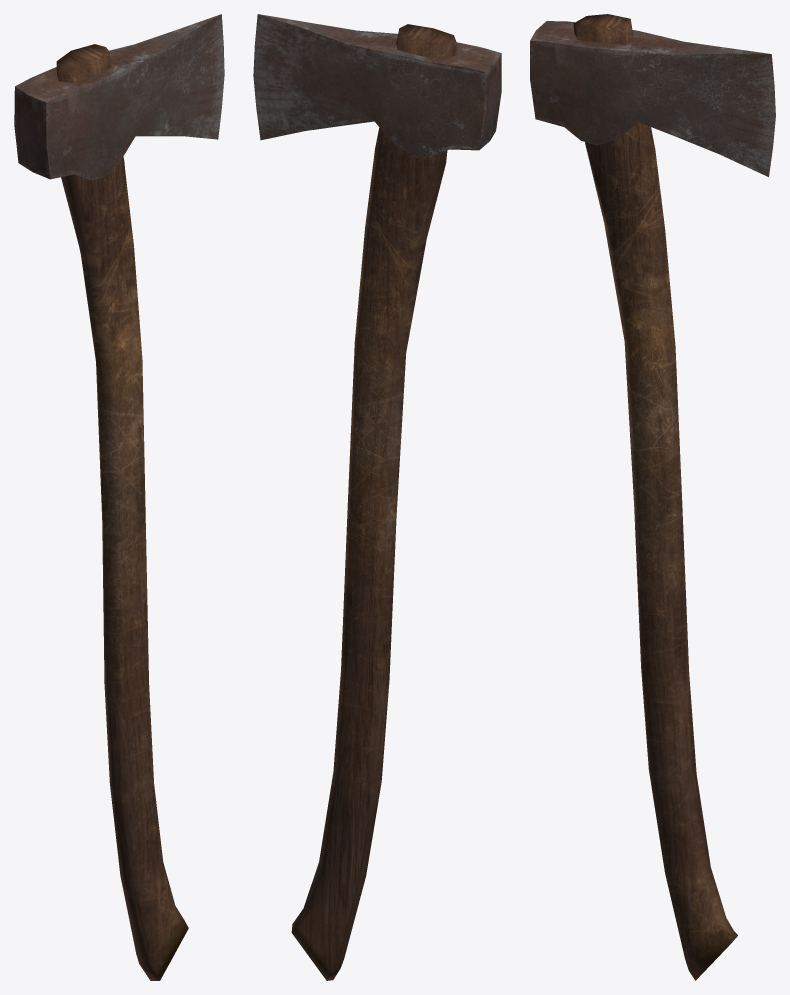
3 renders of one model, left to right at view 1: azimuth 30°, elevation 25°; view 2: azimuth 150°, elevation 25°; view 3: azimuth 330°, elevation 25°, orthographic.
Visible parts, largest first — view 1: Ax_Ax_0; view 2: Ax_Ax_0; view 3: Ax_Ax_0.
Boxes of the visible parts, box(x1,y1,x2,y2) form: Ax_Ax_0: box(14, 14, 224, 980); Ax_Ax_0: box(253, 14, 501, 980); Ax_Ax_0: box(530, 14, 775, 980).
Bounding box in the file's own units: 29.57 × 122 × 9.48.
1 material, 1 textured.
